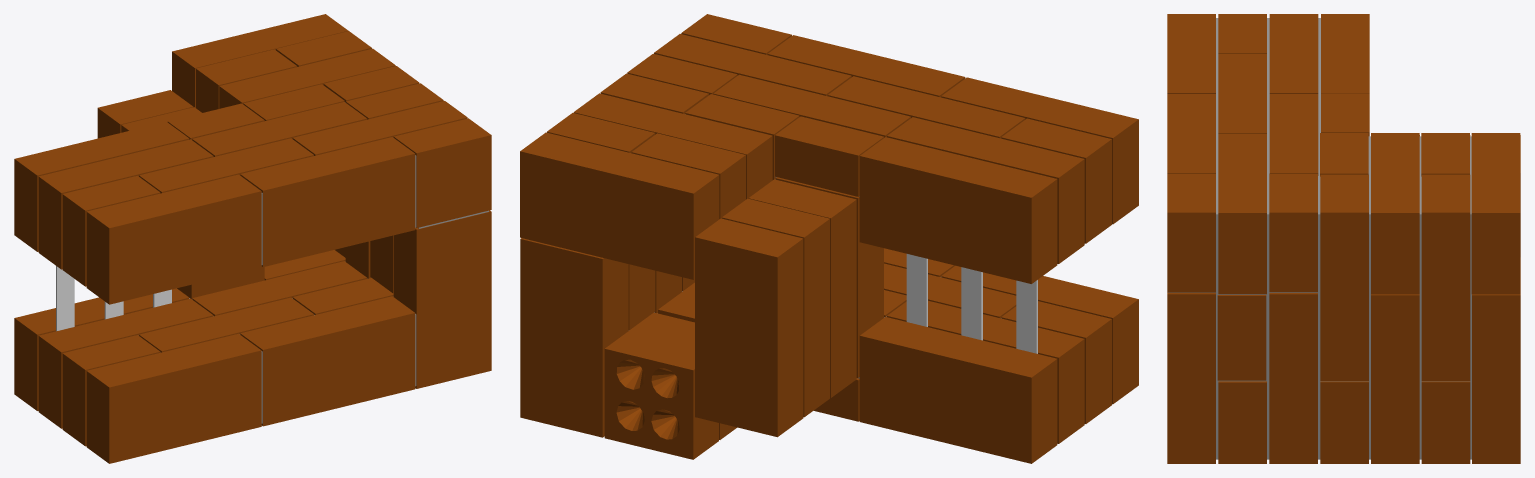
3 views of the same model, side by side, from view 1: azimuth 30°, elevation 25°; view 2: azimuth 150°, elevation 25°; view 3: azimuth 270°, elevation 25° (orthographic). The views are drawn at different scales.
Visible parts, largest first — view 1: brick low poly; view 2: brick low poly; view 3: brick low poly.
Part boxes in pixels (x1,y1,x2,y2): brick low poly: (14, 14, 491, 463); brick low poly: (520, 14, 1138, 463); brick low poly: (1167, 14, 1520, 463).
Size of the model in its own units: 12.56 by 9.44 by 7.41.
